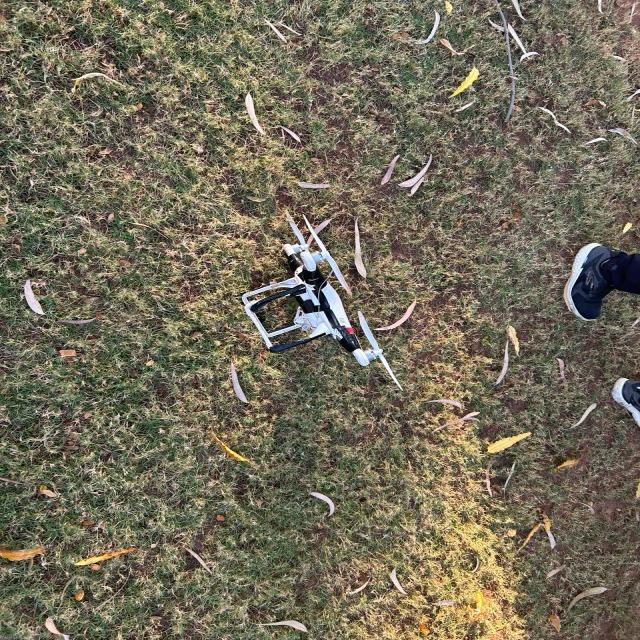drone: (145, 168, 492, 440)
